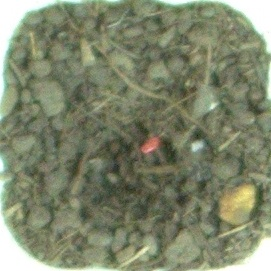chilli seed: (137, 131, 167, 157)
